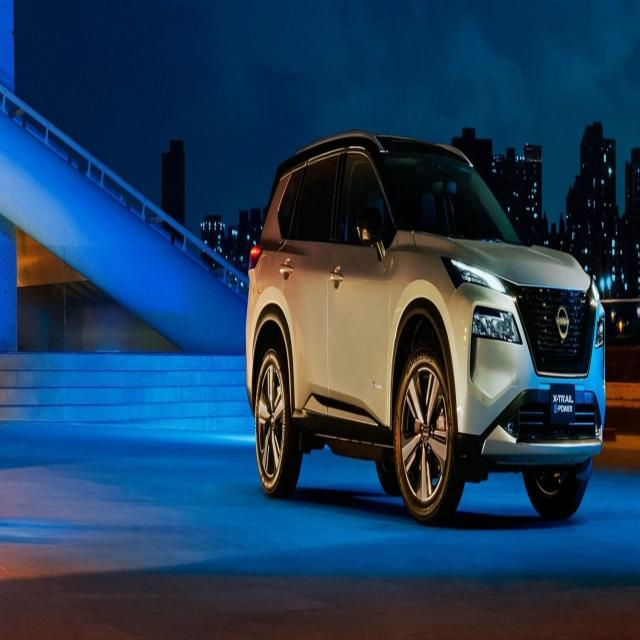SUV: (245, 126, 604, 521)
